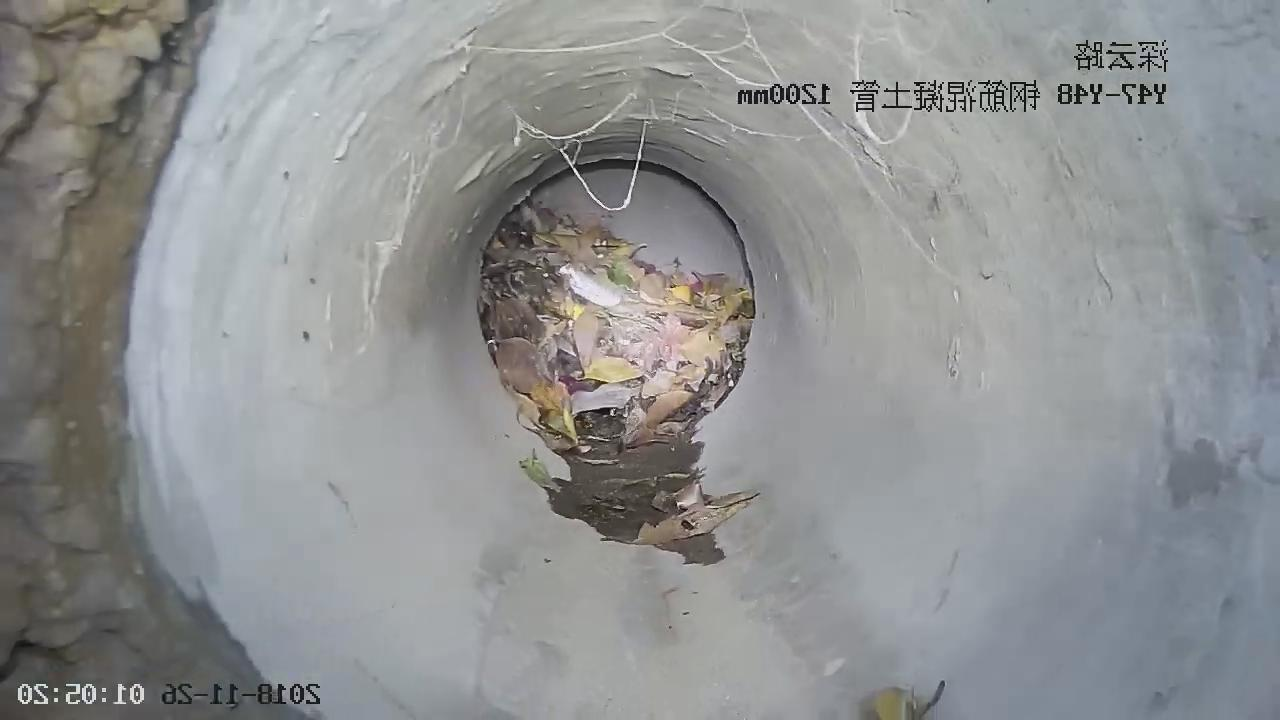ZAW: (479, 200, 754, 464)
